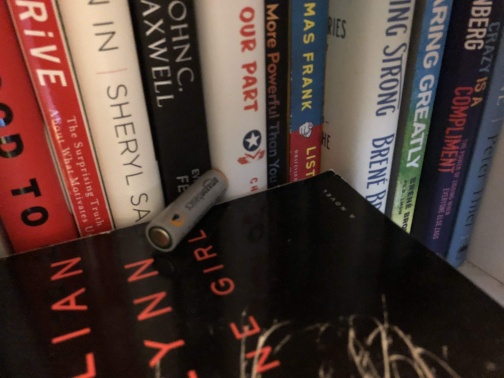battery: (143, 165, 231, 254)
